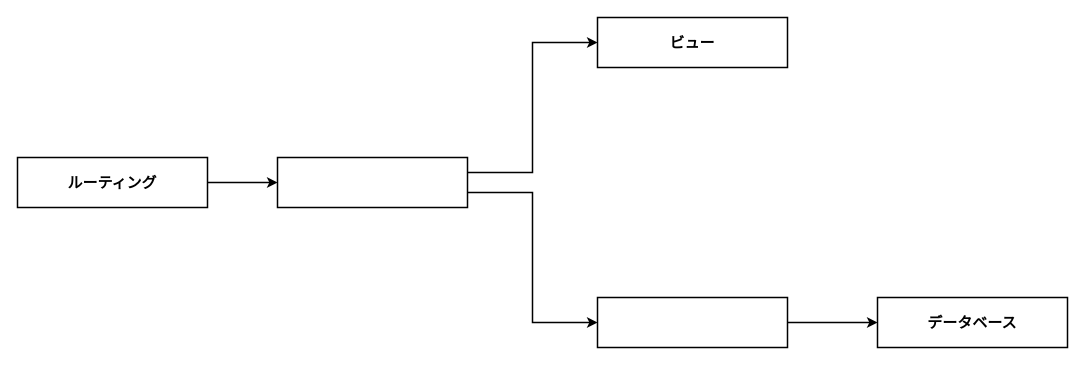
The diagram is 1086 pixels wide and 366 high, and some of its shapes have lost their labels. The shapes that lost their labels are listed below. From the top down, each one's centre as x and y in pixels, then its label:
At (x=372, y=182): "コントローラー".
At (x=692, y=322): "モデル".
